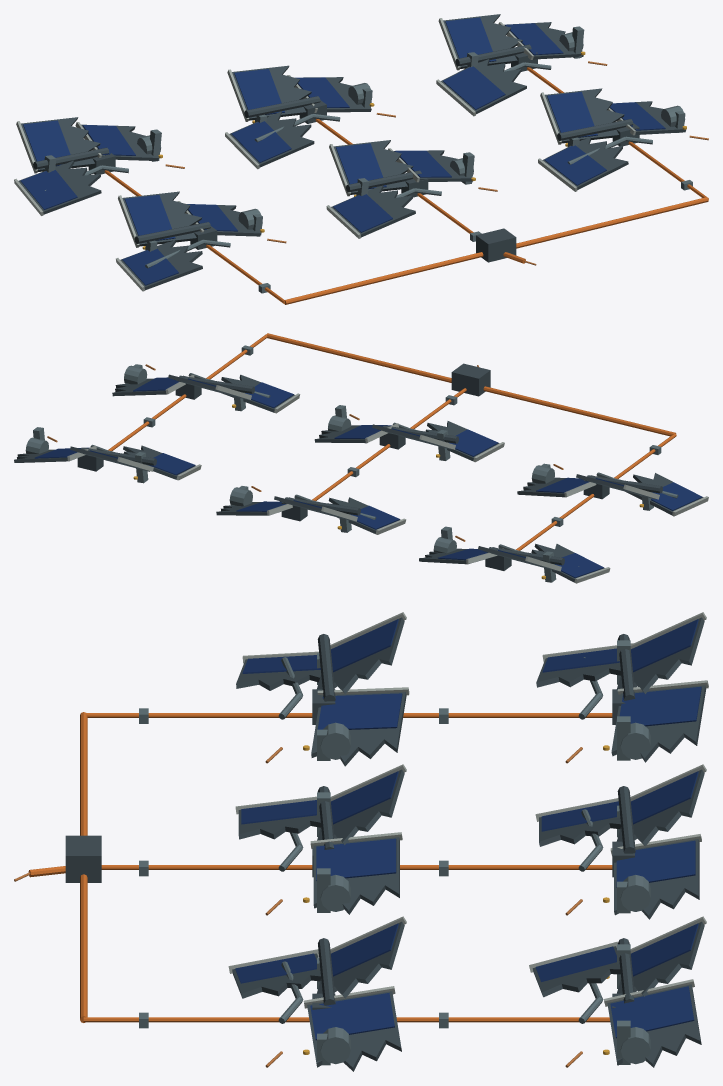
File: solar_array_d3.glb
3 views of the same model, one above another, from view 1: azimuth 30°, elevation 25°; view 2: azimuth 150°, elevation 25°; view 3: azimuth 270°, elevation 25° (orthographic). The views are drawn at different scales.
Visible parts, largest first — view 1: SOLAR_GAME_MESH; view 2: SOLAR_GAME_MESH; view 3: SOLAR_GAME_MESH.
Part boxes in pixels (left/top/right/bottom): SOLAR_GAME_MESH: left=14, top=14, right=708, bottom=304; SOLAR_GAME_MESH: left=14, top=333, right=708, bottom=583; SOLAR_GAME_MESH: left=14, top=612, right=708, bottom=1071.
Bounding box in the file's own units: 16.39 × 1.41 × 11.58.
